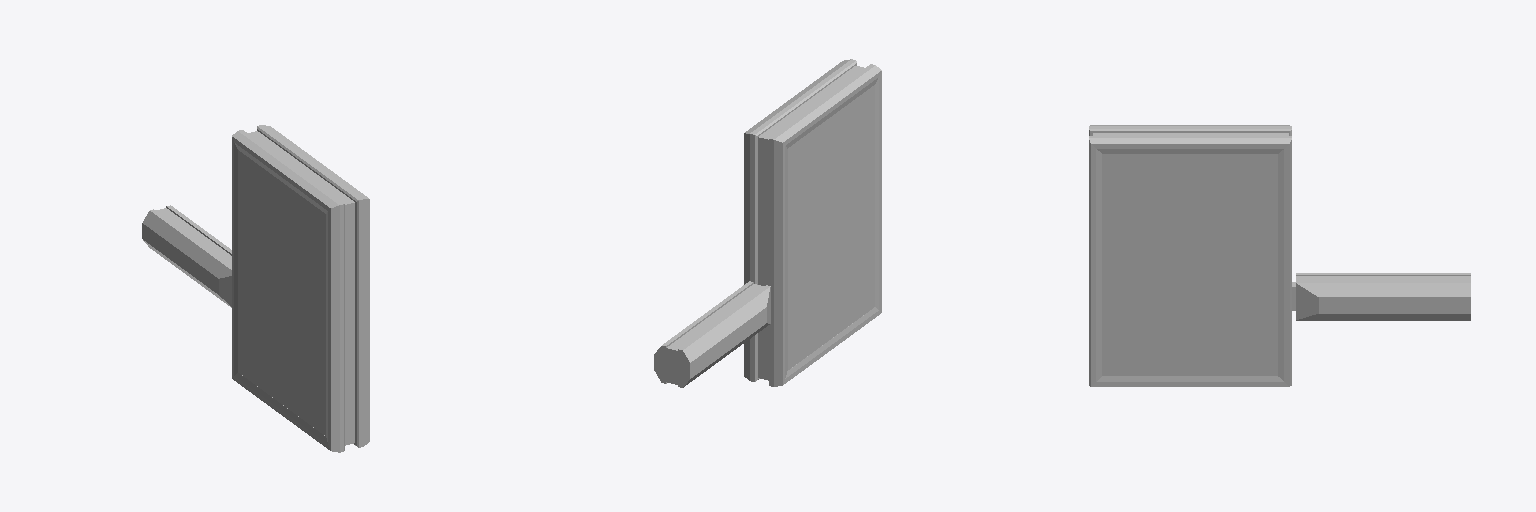
Rendered from Grossvitrine_Megalight_Qualitaetsstandort.obj.
3 views of the same model, side by side, from view 1: azimuth 30°, elevation 25°; view 2: azimuth 150°, elevation 25°; view 3: azimuth 270°, elevation 25° (orthographic).
Visible parts, largest first — view 1: Werbeplaket_Cube.001, Werbewand.001_BezierCurve, Standfuss_aussen.001_Cube.007, Wandseite_Cube.003, Standfuss_innen_Cube.006; view 2: Werbeplaket_Cube.001, Werbewand.001_BezierCurve, Standfuss_aussen.001_Cube.007, Wandseite_Cube.003, Standfuss_innen_Cube.006; view 3: Werbeplaket_Cube.001, Werbewand.001_BezierCurve, Standfuss_aussen.001_Cube.007, Standfuss_innen_Cube.006, Wandseite_Cube.003.
Boxes of the visible parts, x1,y1,x2,y2 form: Werbeplaket_Cube.001: [238, 150, 325, 435]; Werbewand.001_BezierCurve: [232, 125, 369, 452]; Standfuss_aussen.001_Cube.007: [142, 205, 231, 307]; Wandseite_Cube.003: [248, 131, 354, 445]; Standfuss_innen_Cube.006: [156, 208, 231, 265]; Werbeplaket_Cube.001: [788, 85, 874, 369]; Werbewand.001_BezierCurve: [744, 59, 881, 386]; Standfuss_aussen.001_Cube.007: [654, 281, 770, 387]; Wandseite_Cube.003: [758, 66, 864, 380]; Standfuss_innen_Cube.006: [664, 284, 763, 385]; Werbeplaket_Cube.001: [1102, 154, 1277, 375]; Werbewand.001_BezierCurve: [1089, 125, 1291, 386]; Standfuss_aussen.001_Cube.007: [1296, 273, 1470, 320]; Standfuss_innen_Cube.006: [1296, 276, 1470, 280]; Wandseite_Cube.003: [1093, 133, 1288, 135].
Bounding box in the file's own units: 0.6316 × 3.81 × 5.34.